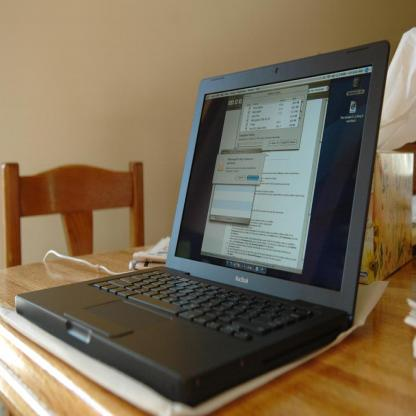board: (34, 61, 382, 409)
